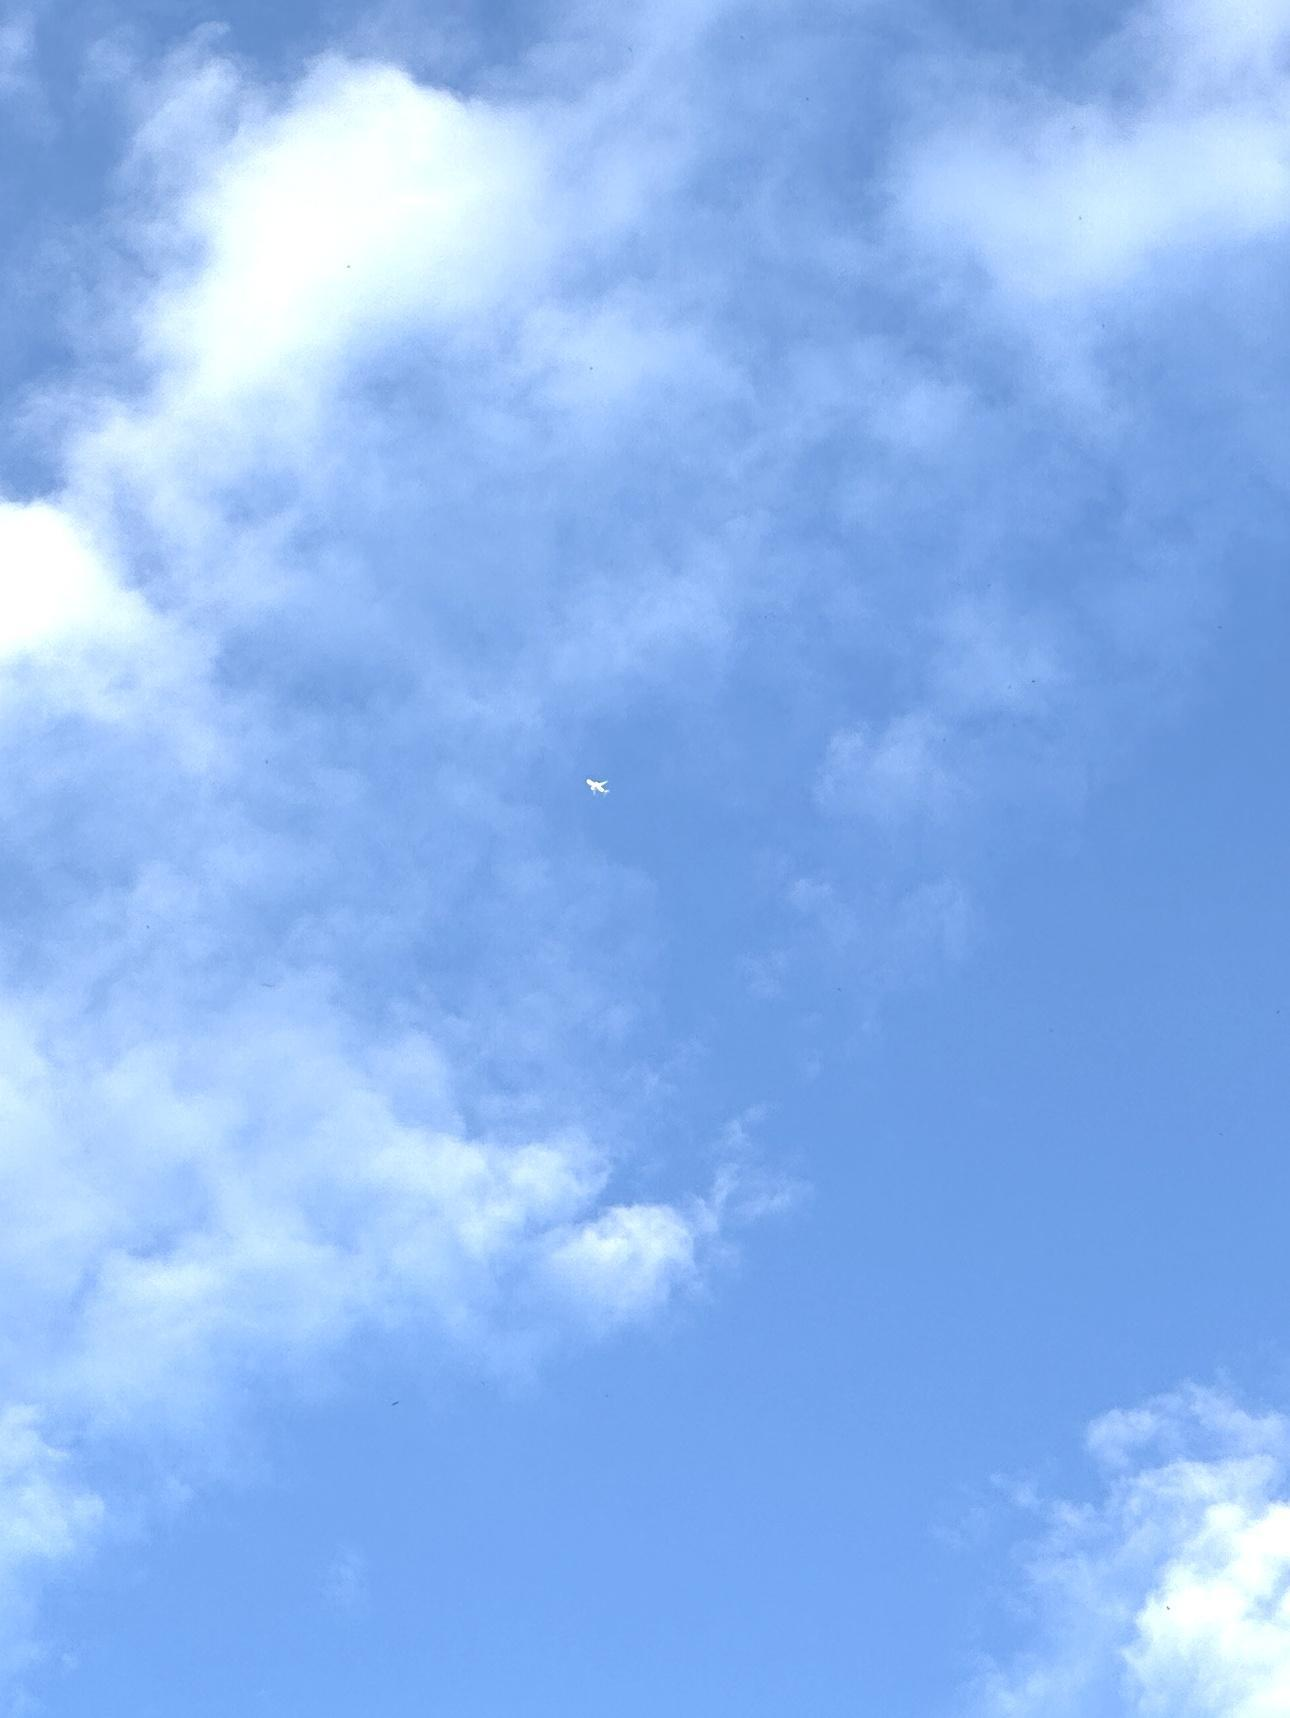Plane: (570, 753, 629, 824)
